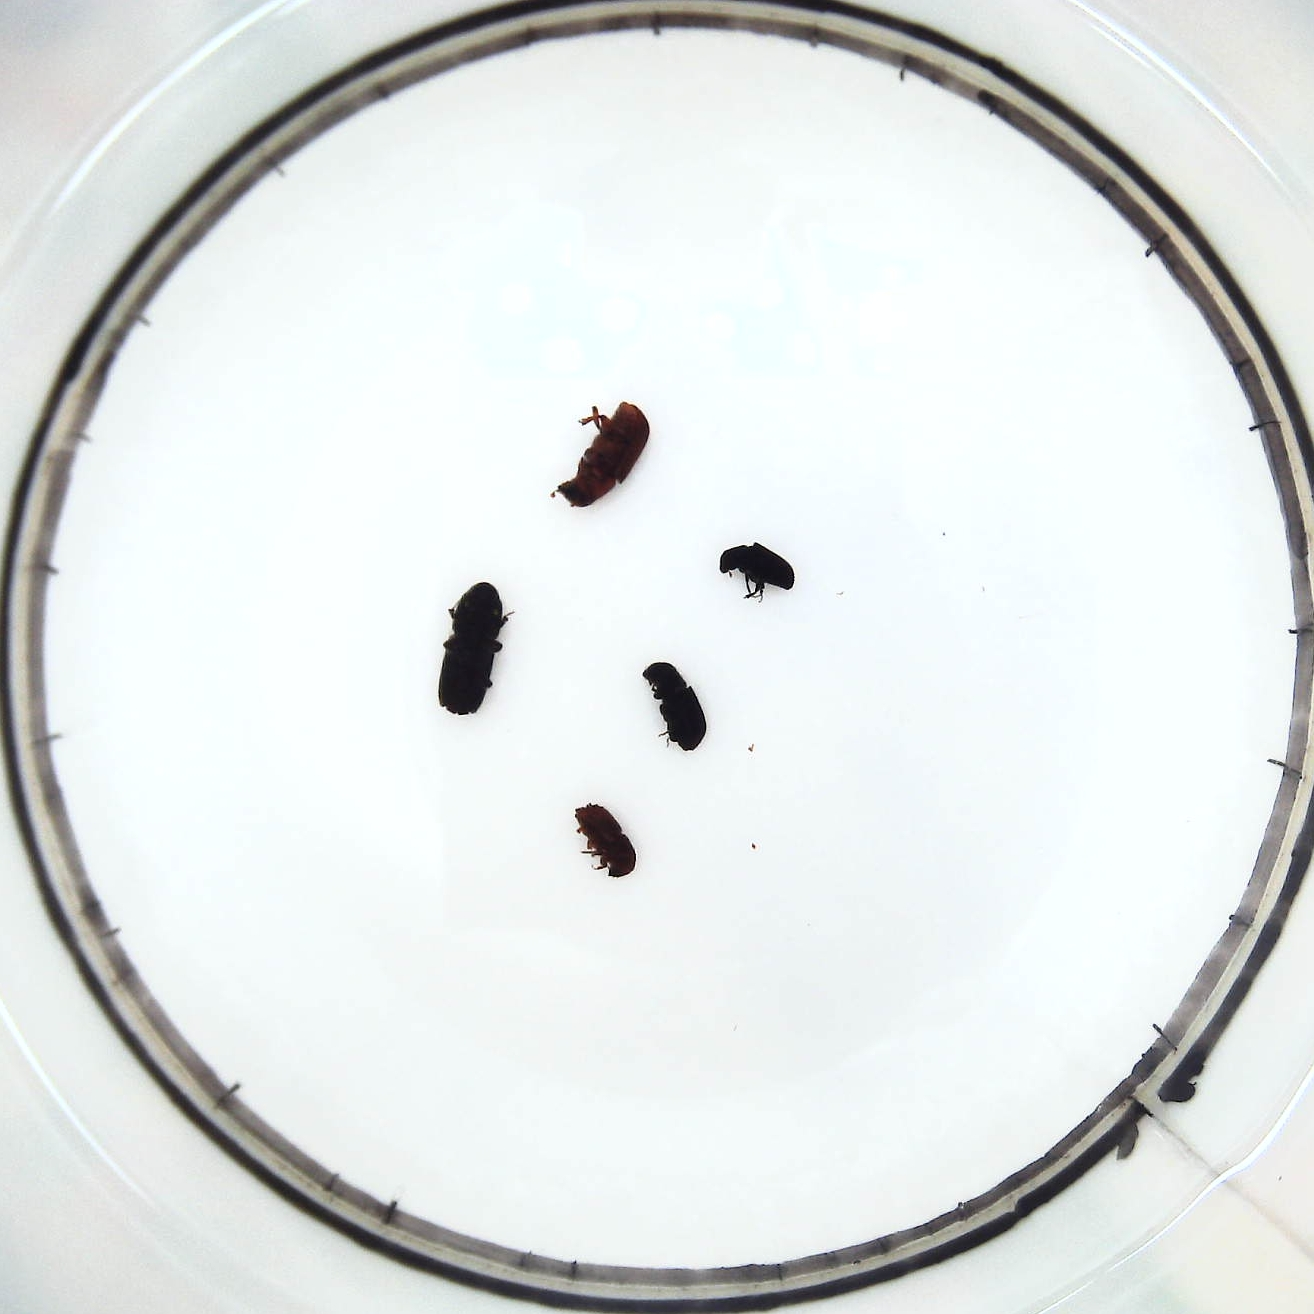Boerner: (436, 578, 520, 723)
Leconte: (549, 396, 657, 516)
armandi: (637, 652, 710, 760)
coleoptera: (714, 543, 803, 603)
linnaeus: (566, 794, 643, 884)
